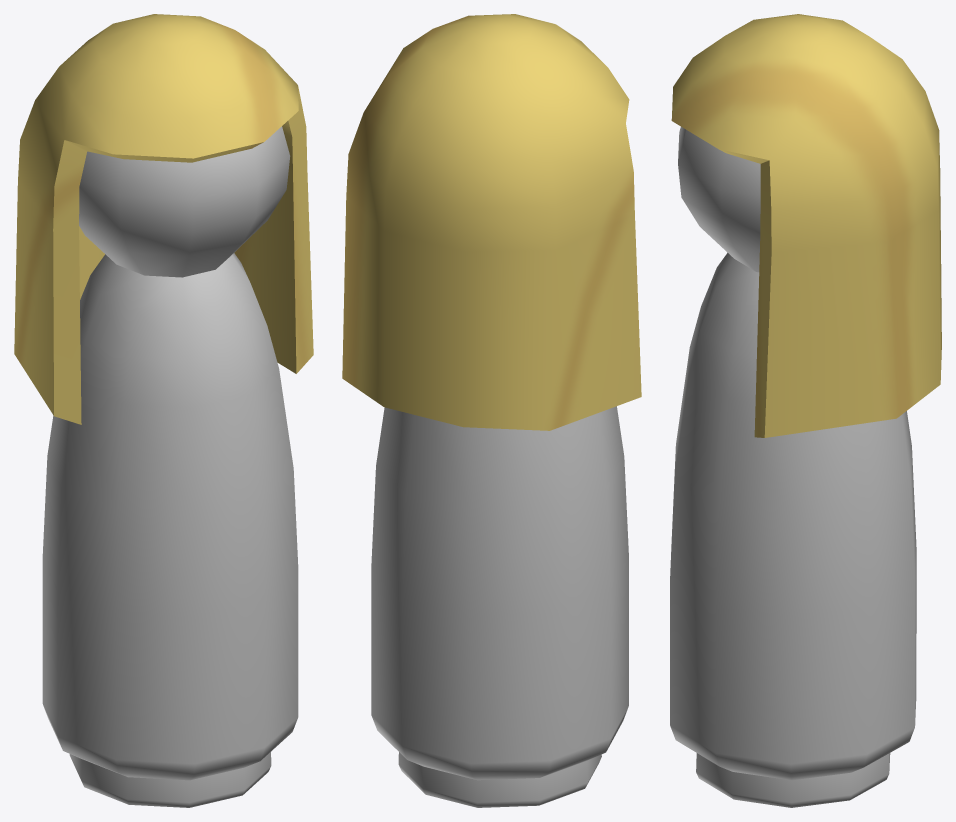
File: Peg_Dress_Long_YellowHair.fbx
The picture shows the model from 3 angles, left to right: view 1: azimuth 30°, elevation 25°; view 2: azimuth 150°, elevation 25°; view 3: azimuth 270°, elevation 25°; orthographic projection.
Parts seen in each view (by area): view 1: Peg_Dress_Long_YellowHair; view 2: Peg_Dress_Long_YellowHair; view 3: Peg_Dress_Long_YellowHair.
Boxes of the visible parts, <box> form: Peg_Dress_Long_YellowHair: <box>14,14,313,807</box>; Peg_Dress_Long_YellowHair: <box>342,14,641,807</box>; Peg_Dress_Long_YellowHair: <box>670,14,941,807</box>.
Bounding box in the file's own units: 2.13 × 5.86 × 1.94.
